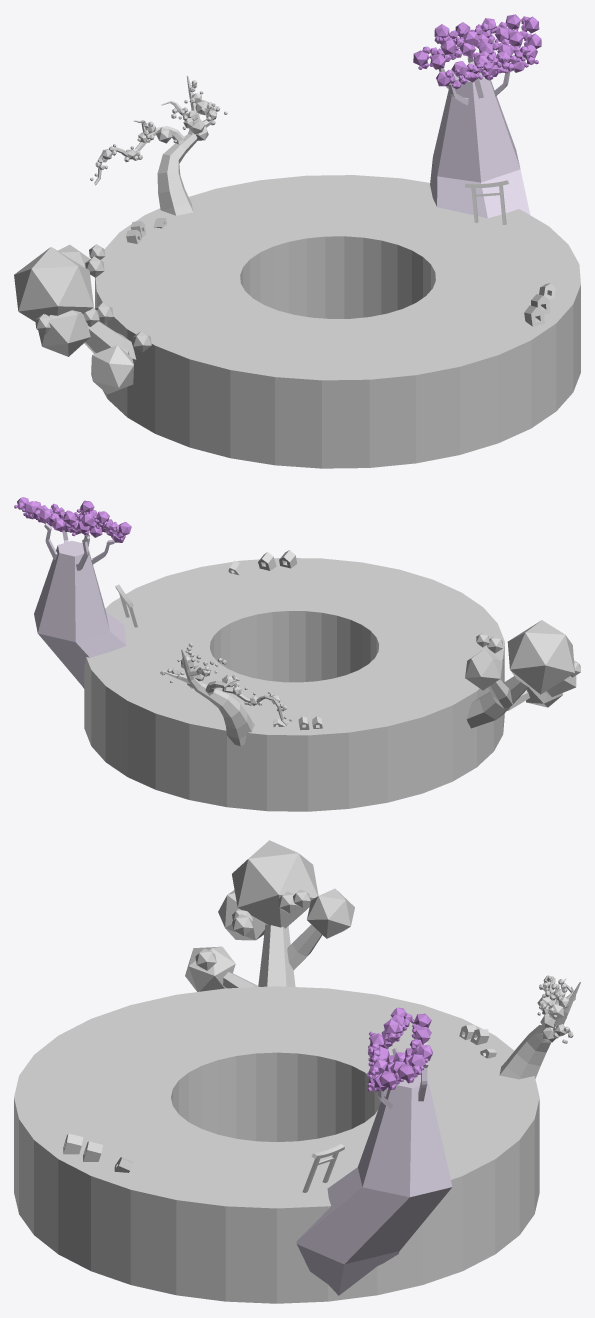
The model's file is Location.fbx.
3 views of the same model, one above another, from view 1: azimuth 30°, elevation 25°; view 2: azimuth 150°, elevation 25°; view 3: azimuth 270°, elevation 25° (orthographic). The views are drawn at different scales.
Visible parts, largest first — view 1: Torus, Cube.006, Icosphere, BezierCurve, Icosphere.043, Icosphere.001, Icosphere.002, Icosphere.064, Icosphere.101, Icosphere.090, Cylinder, Icosphere.102 (+2 smaller); view 2: Torus, Cube.006, Icosphere, BezierCurve, Cylinder, Icosphere.043, Icosphere.003, Icosphere.103, Icosphere.064, Icosphere.102, Cylinder.001; view 3: Torus, Cube.006, Icosphere, BezierCurve, Cylinder, Icosphere.003, Icosphere.043, Icosphere.001, Icosphere.002, Cylinder.001, Icosphere.103, Icosphere.064 (+3 smaller).
Boxes of the visible parts, <box> form: Torus: <box>95,175,580,468</box>; Cube.006: <box>430,54,530,218</box>; Icosphere: <box>14,247,93,321</box>; BezierCurve: <box>94,75,217,215</box>; Icosphere.043: <box>90,80,227,180</box>; Icosphere.001: <box>91,345,133,393</box>; Icosphere.002: <box>38,310,90,356</box>; Icosphere.064: <box>413,30,480,69</box>; Icosphere.101: <box>473,45,538,80</box>; Icosphere.090: <box>436,54,503,89</box>; Cylinder: <box>84,321,136,363</box>; Icosphere.102: <box>474,14,539,48</box>; Torus: <box>84,558,504,811</box>; Cube.006: <box>34,523,126,688</box>; Icosphere: <box>507,620,574,694</box>; BezierCurve: <box>163,649,287,746</box>; Cylinder: <box>466,676,528,728</box>; Icosphere.043: <box>160,642,292,721</box>; Icosphere.003: <box>465,649,502,690</box>; Icosphere.103: <box>39,507,97,535</box>; Icosphere.064: <box>77,500,131,541</box>; Icosphere.102: <box>14,497,65,531</box>; Cylinder.001: <box>488,679,512,708</box>; Torus: <box>14,986,539,1303</box>; Cube.006: <box>296,1041,452,1295</box>; Icosphere: <box>232,840,318,928</box>; BezierCurve: <box>499,977,580,1079</box>; Cylinder: <box>258,924,295,986</box>; Icosphere.003: <box>307,888,354,938</box>; Icosphere.043: <box>537,975,573,1043</box>; Icosphere.001: <box>185,946,235,991</box>; Icosphere.002: <box>218,890,265,940</box>; Cylinder.001: <box>287,924,322,970</box>; Icosphere.103: <box>410,1013,432,1060</box>; Icosphere.064: <box>381,1007,412,1047</box>.
Size of the model in its own units: 13.83 by 5.68 by 10.78.
